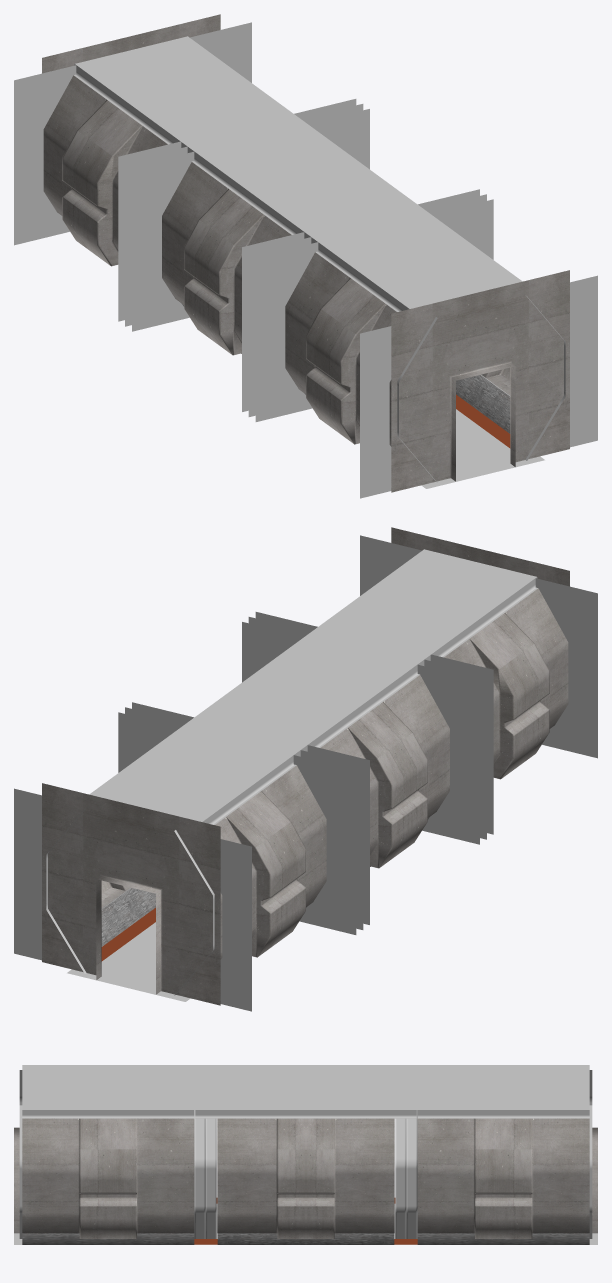
The model's file is HC_room2.gltf.
The picture shows the model from 3 angles, top to bottom: view 1: azimuth 30°, elevation 25°; view 2: azimuth 150°, elevation 25°; view 3: azimuth 270°, elevation 25°; orthographic projection. The views are drawn at different scales.
Parts seen in each view (by area): view 1: Tunnel.001; view 2: Tunnel.001; view 3: Tunnel.001.
Boxes of the visible parts, bbox=[...] form: Tunnel.001: bbox=[14, 14, 597, 498]; Tunnel.001: bbox=[14, 527, 597, 1011]; Tunnel.001: bbox=[14, 1065, 597, 1244].
Bounding box in the file's own units: 8 × 5.75 × 20.94.
